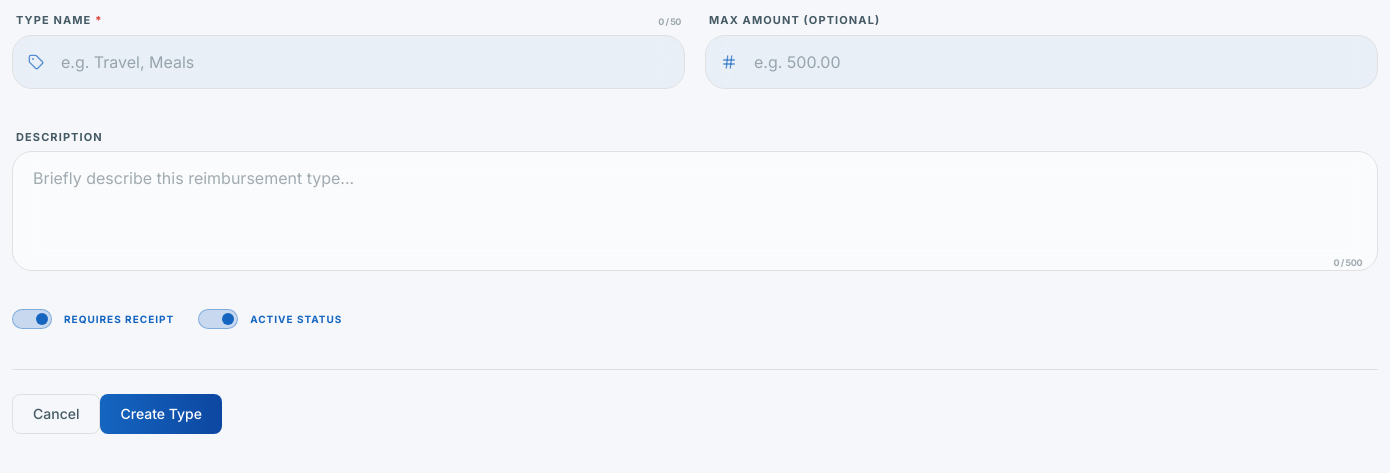
Test case: ReimbursementTypeForm Component › shows validation error when name is empty
Click the button "Create Type" at [161, 414], box [100,394,222,434]
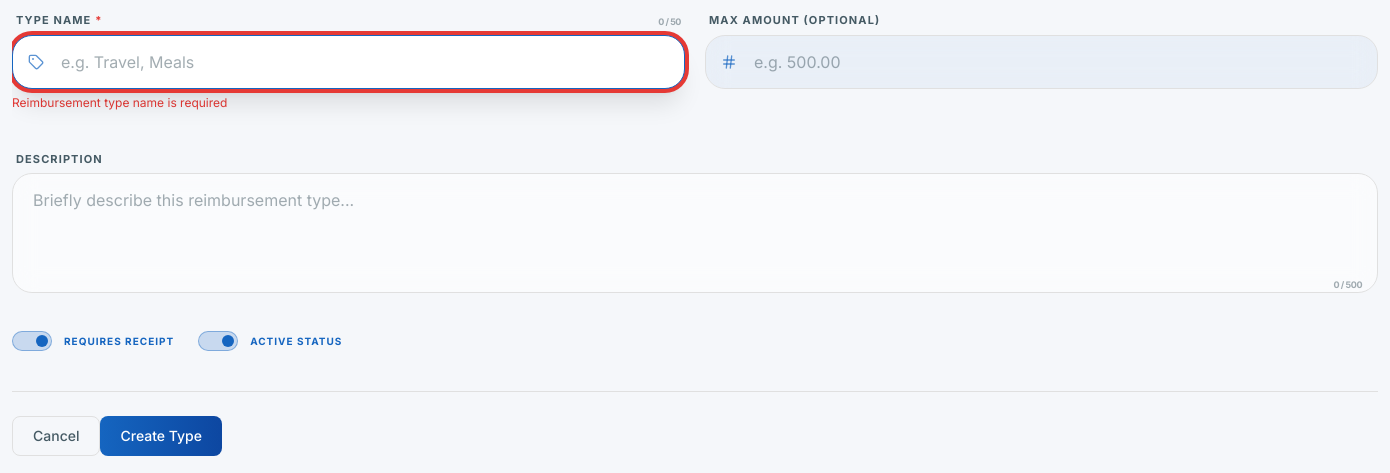
Expected: the text "Reimbursement type name is required" is shown, [12,94,227,110]
